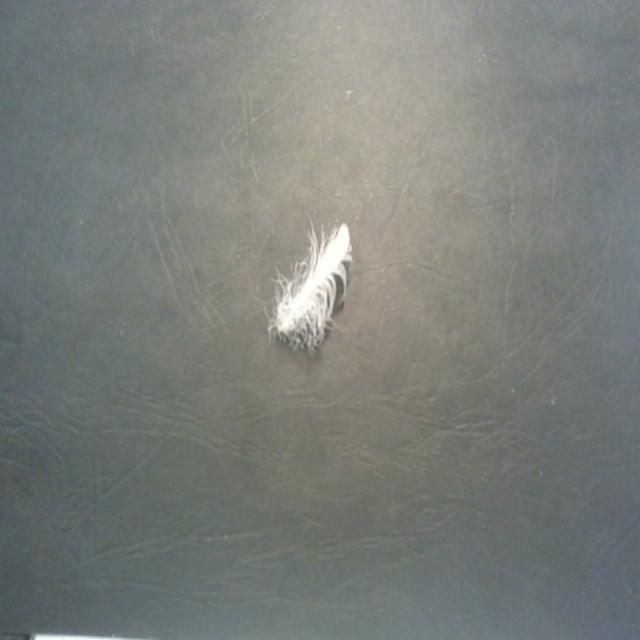feather: (260, 218, 356, 346)
